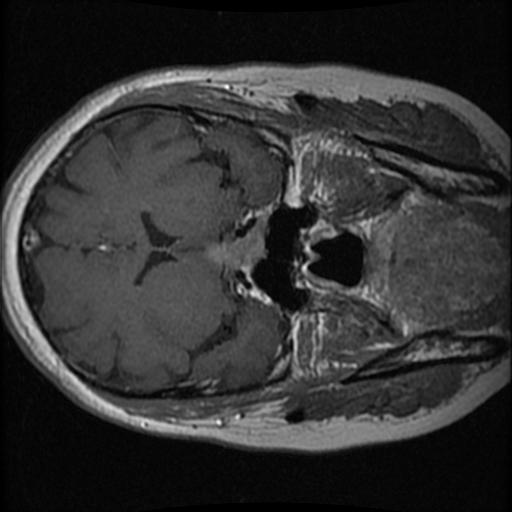pituitary tumour: (206, 216, 268, 271)
